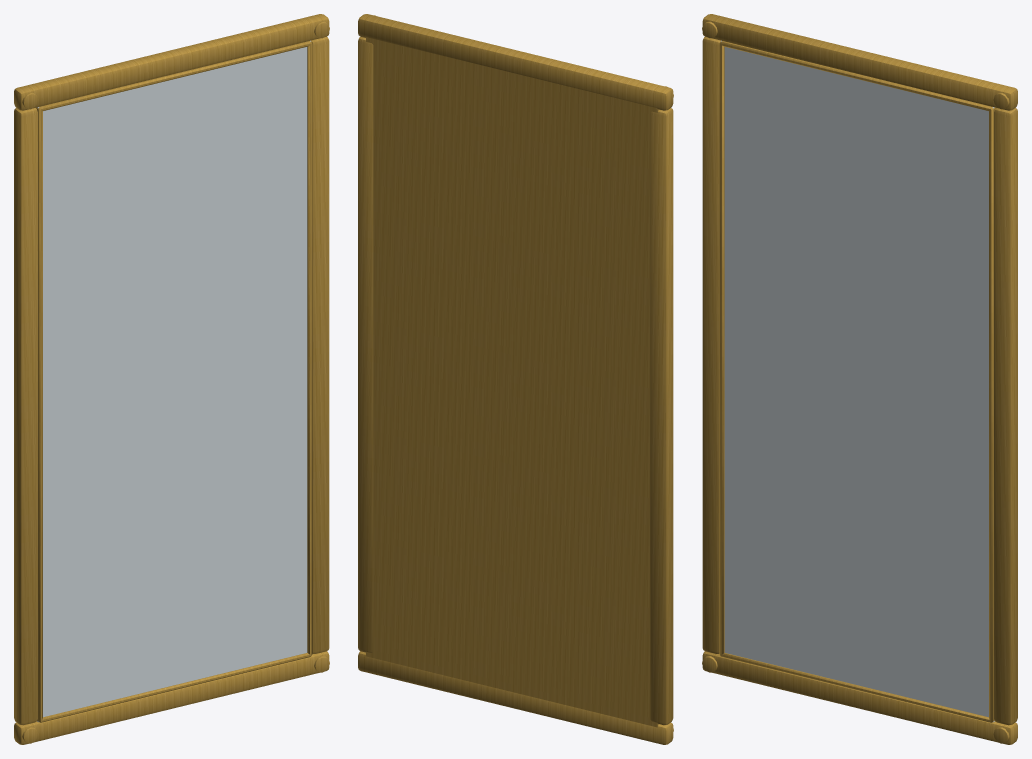
The model's file is espelho-13x28.glb.
3 views of the same model, side by side, from view 1: azimuth 30°, elevation 25°; view 2: azimuth 150°, elevation 25°; view 3: azimuth 330°, elevation 25° (orthographic).
Parts seen in each view (by area): view 1: vidro, montante, montante.001, travessa, travessa.001, filete.003, filete.002, filete, filete.001; view 2: fundo, montante, montante.001, travessa, travessa.001; view 3: vidro, montante.001, montante, travessa, travessa.001, filete.002, filete.003, filete, filete.001.
Part boxes in pixels (left/top/right/bottom): vidro: left=37, top=40, right=311, bottom=722; montante: left=14, top=108, right=37, bottom=725; montante.001: left=311, top=36, right=329, bottom=653; travessa: left=14, top=14, right=329, bottom=110; travessa.001: left=14, top=651, right=329, bottom=744; filete.003: left=307, top=42, right=312, bottom=655; filete.002: left=36, top=107, right=42, bottom=722; filete: left=38, top=41, right=311, bottom=110; filete.001: left=40, top=653, right=310, bottom=722; fundo: left=366, top=37, right=658, bottom=727; montante: left=650, top=108, right=673, bottom=725; montante.001: left=358, top=36, right=373, bottom=652; travessa: left=358, top=14, right=673, bottom=110; travessa.001: left=358, top=651, right=673, bottom=744; vidro: left=720, top=40, right=994, bottom=722; montante.001: left=994, top=108, right=1017, bottom=725; montante: left=702, top=36, right=720, bottom=653; travessa: left=702, top=14, right=1017, bottom=110; travessa.001: left=702, top=651, right=1017, bottom=744; filete.002: left=719, top=42, right=724, bottom=655; filete.003: left=989, top=107, right=995, bottom=721; filete: left=720, top=41, right=993, bottom=110; filete.001: left=720, top=653, right=992, bottom=722.
Size of the model in its own units: 1.48 by 2.98 by 0.079.
2 materials, 1 textured.
